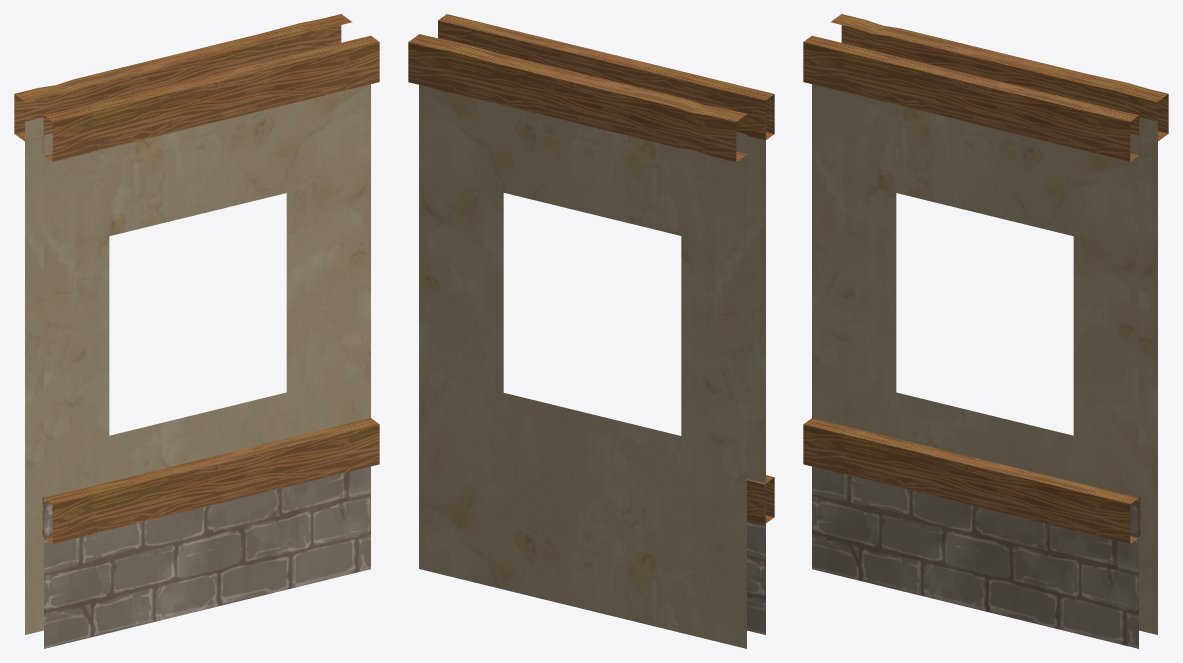
3 renders of one model, left to right at view 1: azimuth 30°, elevation 25°; view 2: azimuth 150°, elevation 25°; view 3: azimuth 330°, elevation 25°, orthographic.
Parts seen in each view (by area): view 1: Wall_Plaster_Window_Wide_Flat; view 2: Wall_Plaster_Window_Wide_Flat; view 3: Wall_Plaster_Window_Wide_Flat.
Boxes of the visible parts, bbox=[...] form: Wall_Plaster_Window_Wide_Flat: bbox=[14, 14, 379, 648]; Wall_Plaster_Window_Wide_Flat: bbox=[408, 14, 774, 648]; Wall_Plaster_Window_Wide_Flat: bbox=[803, 14, 1168, 648].
Bounding box in the file's own units: 2 × 3.12 × 0.4065.
3 materials, 3 textured.
